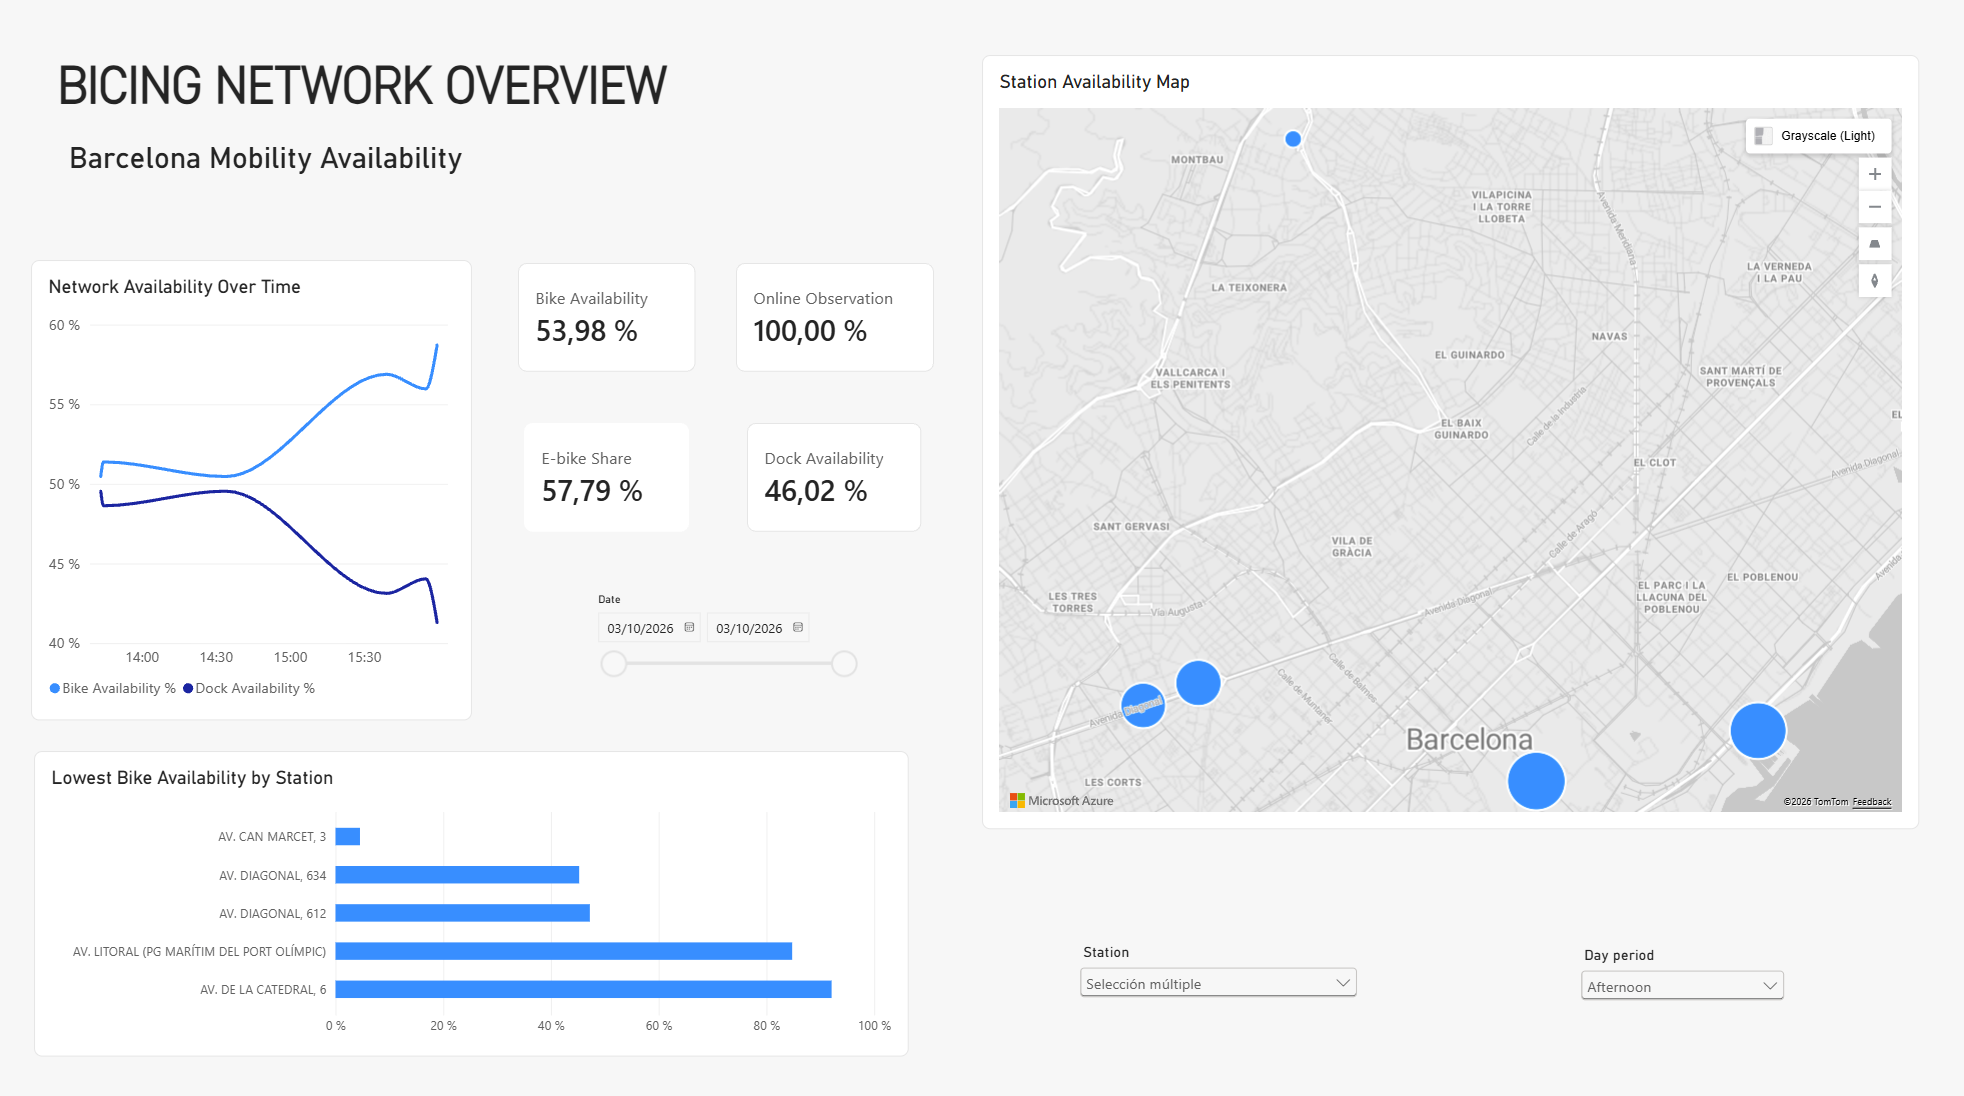

The page's visual inventory and layout, read from the dashboard file:
{"tool":"powerbi","page":{"name":"Página 1","canvas":[1920,1080],"ordinal":0},"visuals":[{"type":"cardVisual","fields":{"Data":["gold_fact_bicing_availability.Bike Availability %"]},"box":[508,260.4,173.6,106.3],"z":0},{"type":"cardVisual","fields":{"Data":["gold_fact_bicing_availability.Dock Availability %"]},"box":[731.3,416.4,170.6,106.3],"z":1000},{"type":"cardVisual","fields":{"Data":["gold_fact_bicing_availability.E-bike Share %"]},"box":[513.9,416.4,161.9,106.3],"z":2000},{"type":"cardVisual","fields":{"Data":["gold_fact_bicing_availability.Online Observation %"]},"box":[720.6,260.4,193.1,106.3],"z":3000},{"type":"slicer","fields":{"Values":["gold_dim_date.full_date"]},"box":[578.2,582.1,264.3,105.3],"z":4000},{"type":"slicer","fields":{"Values":["gold_dim_time.day_period"]},"box":[1539.7,927.3,207.7,68.3],"z":5000},{"type":"slicer","fields":{"Values":["gold_dim_station.station_name"]},"box":[1051.2,924.4,279.9,73.1],"z":6000},{"type":"azureMap","title":"Station Availability Map","fields":{"Size":["gold_fact_bicing_availability.Bike Availability %"],"X":["gold_dim_station.longitude"],"Y":["gold_dim_station.latitude"]},"box":[960.5,57.5,913.7,754.7],"z":7000},{"type":"lineChart","title":"Network Availability Over Time","fields":{"Category":["gold_fact_bicing_availability.snapshot_ingested_at"],"Y":["gold_fact_bicing_availability.Bike Availability %","gold_fact_bicing_availability.Dock Availability %"]},"box":[33.2,257.4,430,448.6],"z":8000},{"type":"clusteredBarChart","title":"Lowest Bike Availability by Station","fields":{"Category":["gold_dim_station.station_name"],"Y":["gold_fact_bicing_availability.Bike Availability %"]},"box":[36.1,736.2,853.2,298.4],"z":9000},{"type":"textbox","box":[33.2,0,757.7,210.6],"z":9001}]}

Visuals, with their boxes in screenshot pixels (x1, y1, x2, y2), scaled from the page's 1920x1080 canvas onto the 1964x1096 screenshot:
cardVisual - gold_fact_bicing_availability.Bike Availability %: (x1=520, y1=264, x2=697, y2=372)
cardVisual - gold_fact_bicing_availability.Dock Availability %: (x1=748, y1=423, x2=923, y2=530)
cardVisual - gold_fact_bicing_availability.E-bike Share %: (x1=526, y1=423, x2=691, y2=530)
cardVisual - gold_fact_bicing_availability.Online Observation %: (x1=737, y1=264, x2=935, y2=372)
slicer - gold_dim_date.full_date: (x1=591, y1=591, x2=862, y2=698)
slicer - gold_dim_time.day_period: (x1=1575, y1=941, x2=1787, y2=1010)
slicer - gold_dim_station.station_name: (x1=1075, y1=938, x2=1362, y2=1012)
"Station Availability Map" azureMap: (x1=983, y1=58, x2=1917, y2=824)
"Network Availability Over Time" lineChart: (x1=34, y1=261, x2=474, y2=716)
"Lowest Bike Availability by Station" clusteredBarChart: (x1=37, y1=747, x2=910, y2=1050)
textbox: (x1=34, y1=0, x2=809, y2=214)
